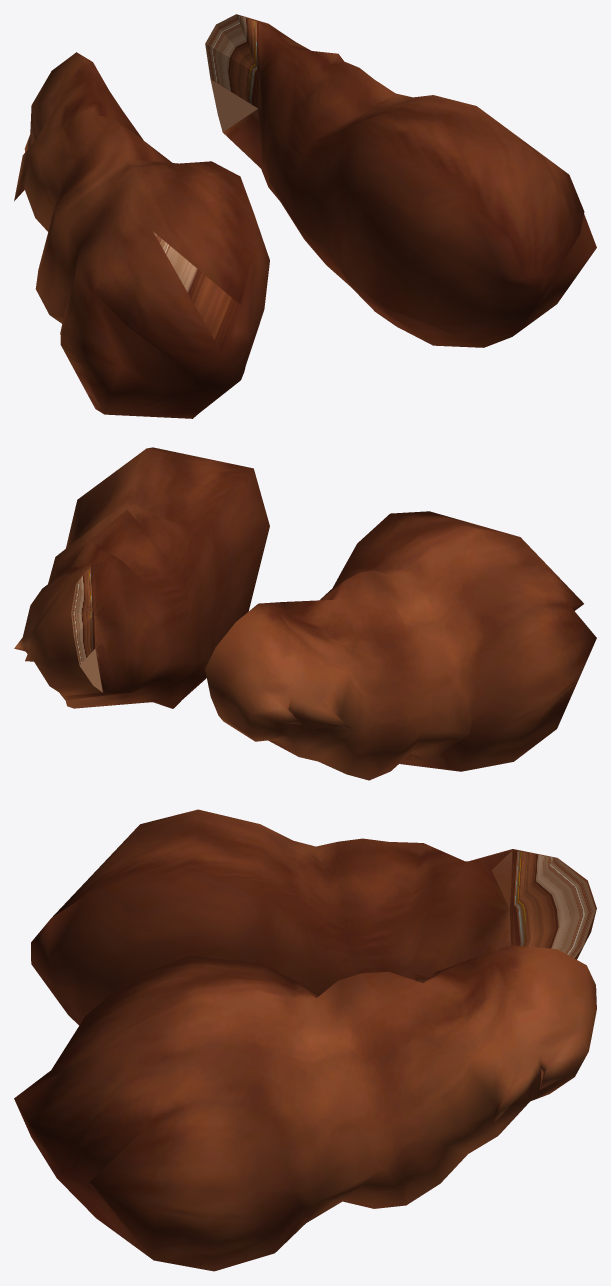
The model's file is ladyEars.fbx.
3 renders of one model, top to bottom at view 1: azimuth 30°, elevation 25°; view 2: azimuth 150°, elevation 25°; view 3: azimuth 270°, elevation 25°, orthographic. The views are drawn at different scales.
Visible parts, largest first — view 1: lady_lod0.001; view 2: lady_lod0.001; view 3: lady_lod0.001.
Boxes of the visible parts, x1=… form: lady_lod0.001: x1=14, y1=14, x2=596, y2=418; lady_lod0.001: x1=14, y1=447, x2=596, y2=780; lady_lod0.001: x1=14, y1=809, x2=596, y2=1271.
Bounding box in the file's own units: 36597 × 16429 × 31898.
1 material, 1 textured.
